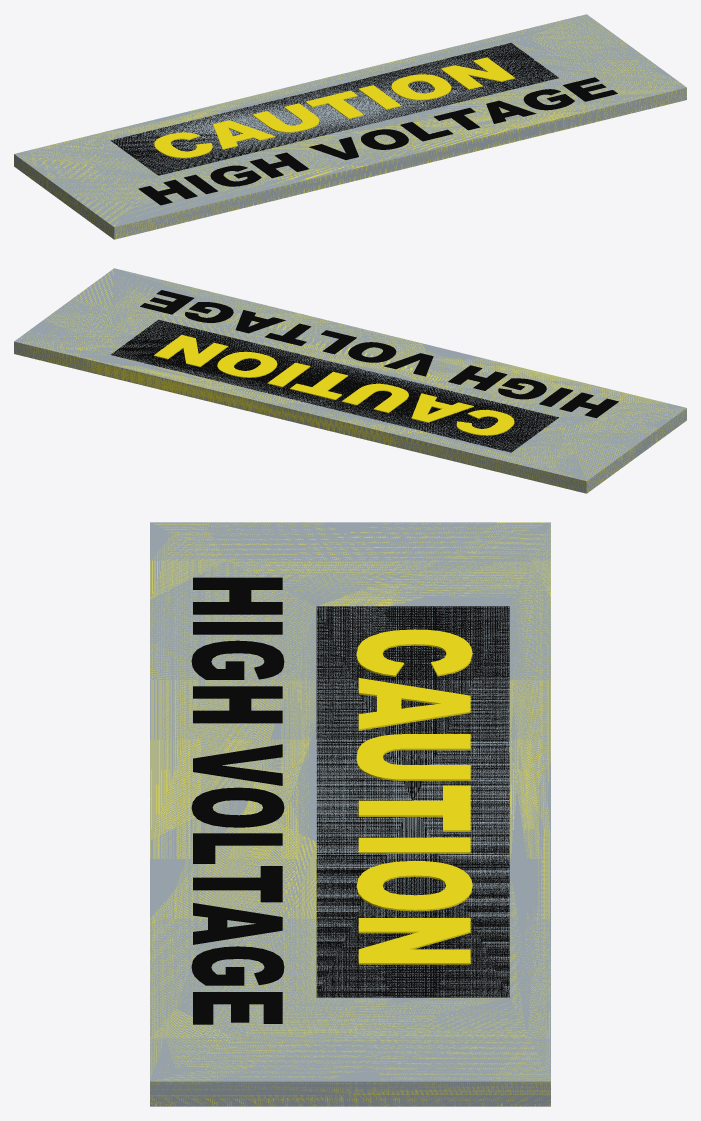
File: Caution.fbx
3 renders of one model, top to bottom at view 1: azimuth 30°, elevation 25°; view 2: azimuth 150°, elevation 25°; view 3: azimuth 270°, elevation 25°, orthographic. The views are drawn at different scales.
Parts seen in each view (by area): view 1: Model, HIGH_VOLTAGE1, CAUTION1; view 2: Model, HIGH_VOLTAGE1, CAUTION1; view 3: Model, HIGH_VOLTAGE1, CAUTION1.
Boxes of the visible parts, <box> form: Model: <box>14,14,686,239</box>; HIGH_VOLTAGE1: <box>138,77,617,205</box>; CAUTION1: <box>154,57,514,158</box>; Model: <box>14,268,686,493</box>; HIGH_VOLTAGE1: <box>140,290,618,418</box>; CAUTION1: <box>153,335,514,435</box>; Model: <box>150,522,550,1106</box>; HIGH_VOLTAGE1: <box>191,577,284,1024</box>; CAUTION1: <box>356,629,472,964</box>.
Size of the model in its own units: 96 by 2.12 by 29.08.
